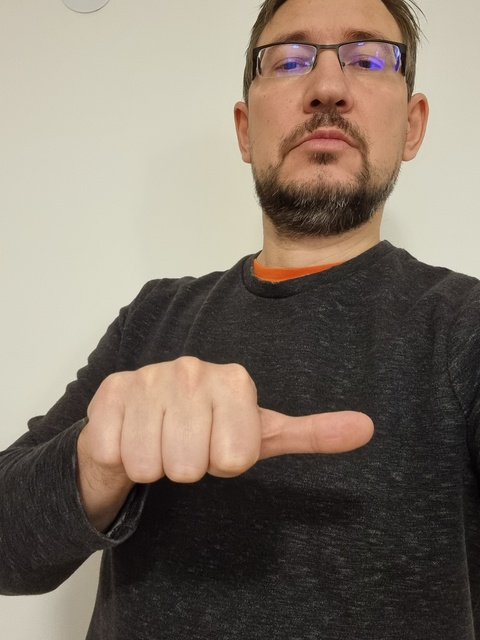GestBack: (90, 357, 374, 482)
